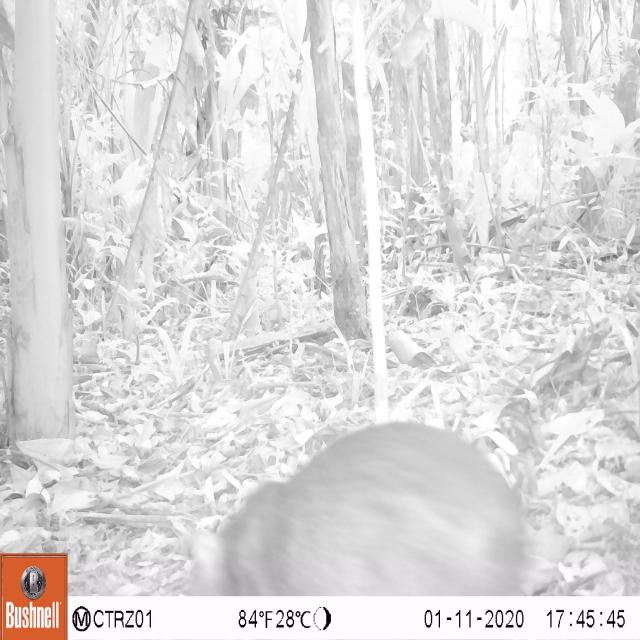Black Agouti: (181, 415, 553, 600)
